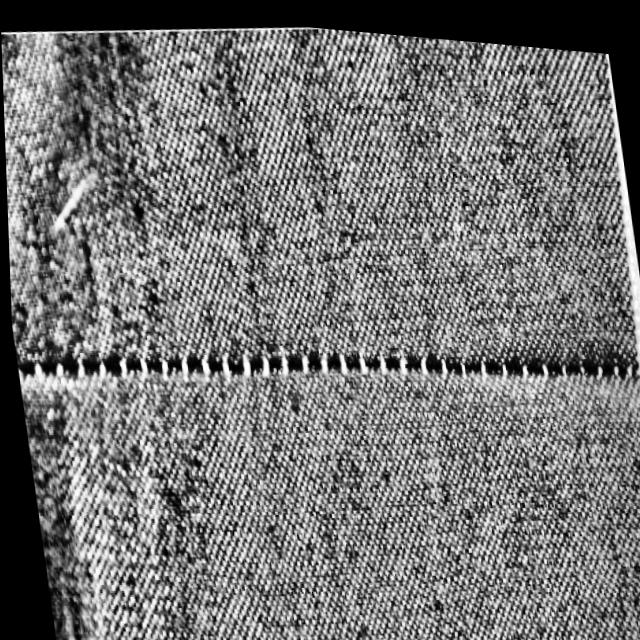seam: (8, 263, 640, 457)
